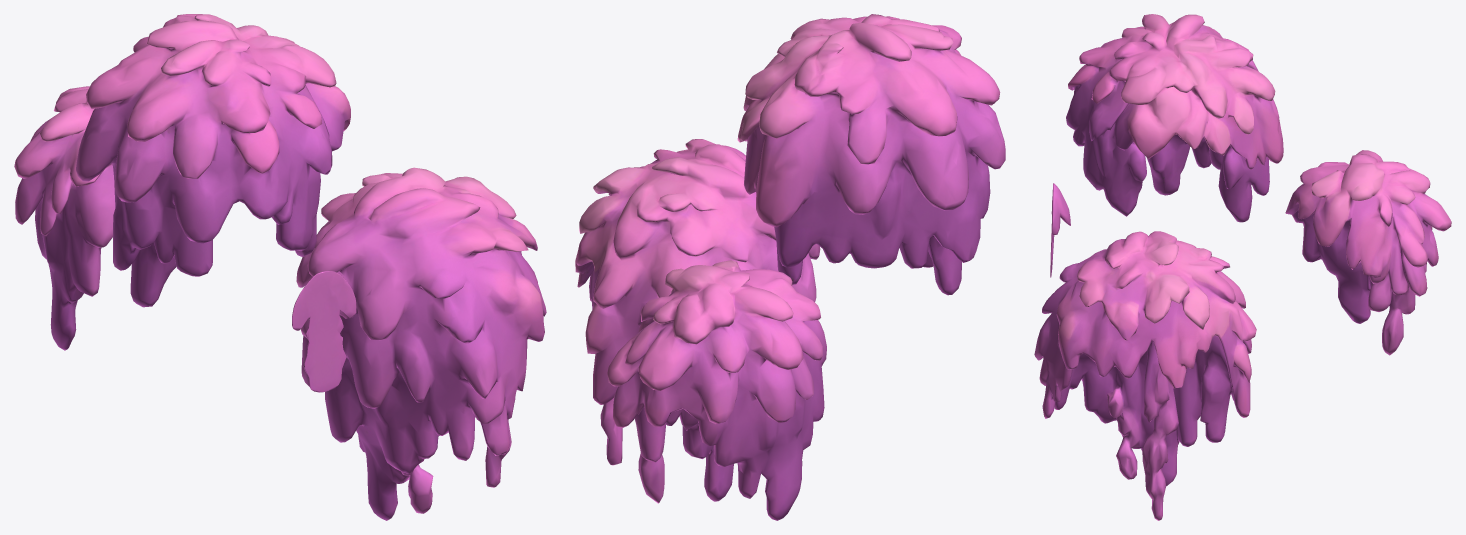
3 views of the same model, side by side, from view 1: azimuth 30°, elevation 25°; view 2: azimuth 150°, elevation 25°; view 3: azimuth 270°, elevation 25° (orthographic). The views are drawn at different scales.
Parts seen in each view (by area): view 1: Mesh::generatedModels/KHmdEFpW9mKAdSI19Cy9.gltf; view 2: Mesh::generatedModels/KHmdEFpW9mKAdSI19Cy9.gltf; view 3: Mesh::generatedModels/KHmdEFpW9mKAdSI19Cy9.gltf.
Boxes of the visible parts, box(x1,y1,x2,y2) form: Mesh::generatedModels/KHmdEFpW9mKAdSI19Cy9.gltf: box(14, 14, 546, 520); Mesh::generatedModels/KHmdEFpW9mKAdSI19Cy9.gltf: box(575, 14, 1005, 520); Mesh::generatedModels/KHmdEFpW9mKAdSI19Cy9.gltf: box(1034, 14, 1451, 520).
Bounding box in the file's own units: 0.8055 × 1 × 0.9404.
1 material, 1 textured.
